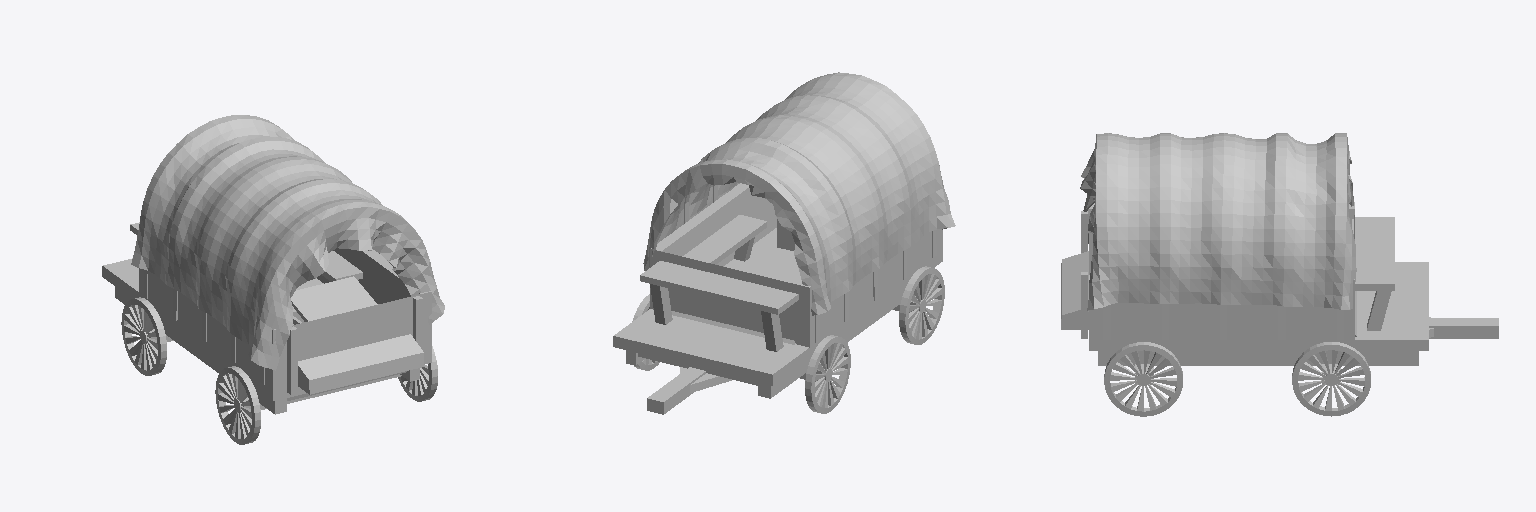
Rendered from medieval van.obj.
3 renders of one model, left to right at view 1: azimuth 30°, elevation 25°; view 2: azimuth 150°, elevation 25°; view 3: azimuth 270°, elevation 25°, orthographic.
Visible parts, largest first — view 1: Plane_Plane.002, Cube_Cube.001, Cube.007_Cube.008, Cylinder.003_Cylinder.005, Cylinder.002_Cylinder.004, Cube.017_Cube.018, Cylinder.004_Cylinder.006, Cube.011_Cube.012, Cube.010_Cube.011, Cube.005; view 2: Plane_Plane.002, Cube_Cube.001, Cube.001_Cube.002, Cylinder.002_Cylinder.004, Cylinder.003_Cylinder.005, Cube.011_Cube.012, Cube.004_Cube.006, Cube.005, Cube.003_Cube.004, Cube.002_Cube.003; view 3: Plane_Plane.002, Cube_Cube.001, Cylinder.004_Cylinder.006, Cylinder.001, Cube.001_Cube.002, Cube.007_Cube.008, Cube.004_Cube.006, Cube.005, Cube.002_Cube.003.
Part boxes in pixels (x1,y1,x2,y2): Plane_Plane.002: (131, 115, 444, 370); Cube_Cube.001: (102, 248, 431, 414); Cube.007_Cube.008: (298, 334, 424, 394); Cylinder.003_Cylinder.005: (215, 366, 260, 444); Cylinder.002_Cylinder.004: (121, 297, 166, 375); Cube.017_Cube.018: (291, 276, 377, 324); Cylinder.004_Cylinder.006: (398, 346, 437, 401); Cube.011_Cube.012: (321, 251, 362, 281); Cube.010_Cube.011: (287, 326, 297, 394); Cube.005: (144, 270, 264, 384); Plane_Plane.002: (643, 72, 955, 315); Cube_Cube.001: (613, 183, 942, 398); Cube.001_Cube.002: (640, 261, 798, 314); Cylinder.002_Cylinder.004: (805, 335, 850, 413); Cylinder.003_Cylinder.005: (899, 266, 944, 344); Cube.011_Cube.012: (682, 215, 766, 264); Cube.004_Cube.006: (647, 296, 917, 414); Cube.005: (657, 185, 936, 343); Cube.003_Cube.004: (761, 311, 783, 351); Cube.002_Cube.003: (650, 284, 672, 324); Plane_Plane.002: (1080, 133, 1356, 311); Cube_Cube.001: (1089, 202, 1428, 365); Cylinder.004_Cylinder.006: (1104, 342, 1182, 416); Cylinder.001: (1292, 342, 1370, 416); Cube.001_Cube.002: (1352, 217, 1394, 290); Cube.007_Cube.008: (1061, 251, 1088, 329); Cube.004_Cube.006: (1135, 318, 1498, 384); Cube.005: (1103, 304, 1343, 339); Cube.002_Cube.003: (1367, 291, 1391, 330).
Bounding box in the file's own units: 1.99 × 2.26 × 3.91.